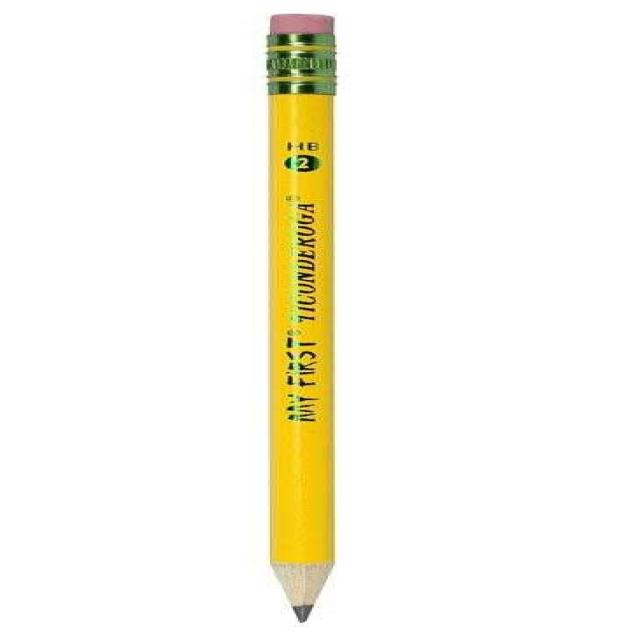pencil: (248, 4, 399, 633)
